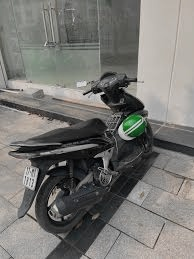Bien-so: (17, 161, 36, 186)
